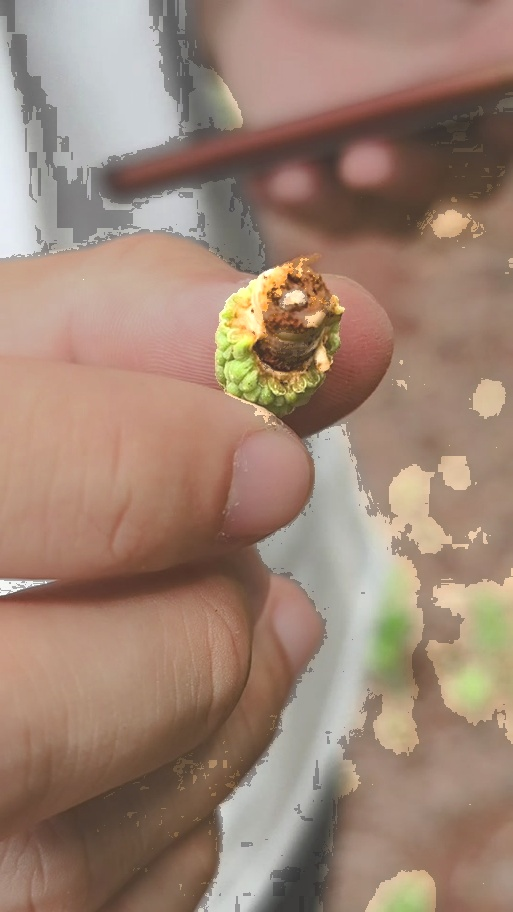Borer: (268, 269, 317, 331)
